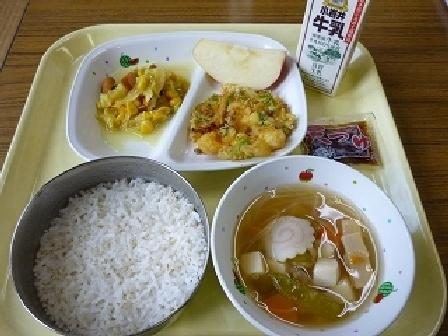Apple: (196, 28, 285, 87)
Milk: (294, 0, 373, 90)
Rice: (15, 163, 206, 324)
Soups: (215, 165, 411, 330)
casserole with meat and vegetables: (193, 89, 290, 157)
salad with sauce: (88, 53, 184, 133)
